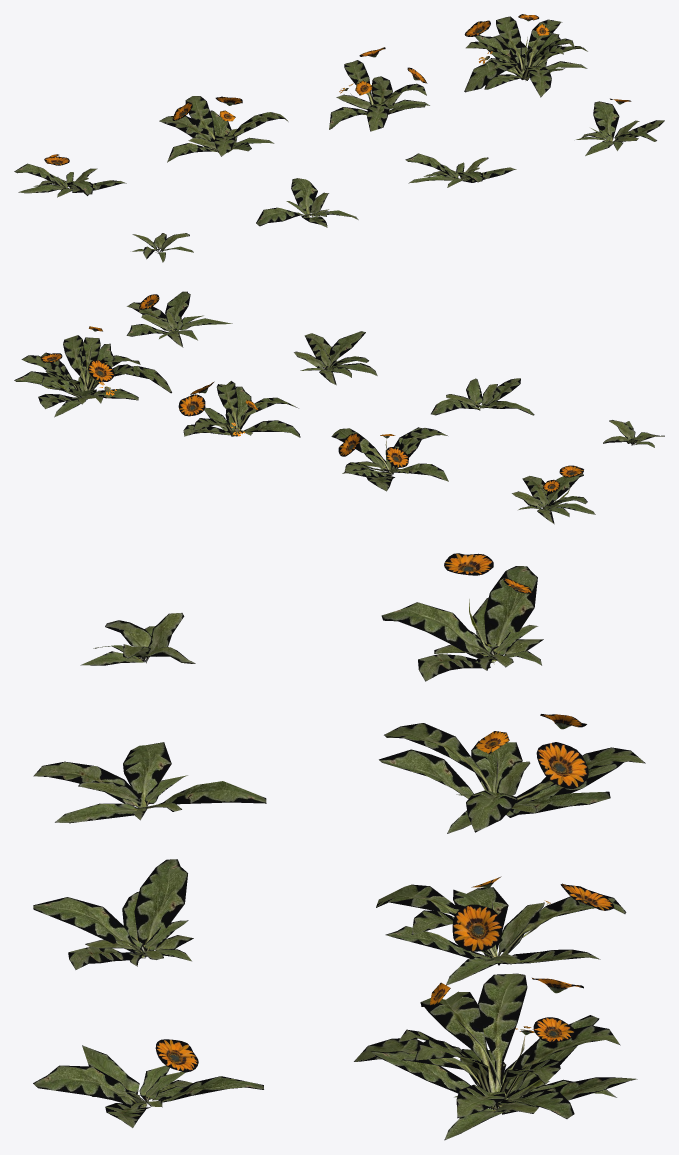
Rendered from flower_gazania.glb.
The picture shows the model from 3 angles, top to bottom: view 1: azimuth 30°, elevation 25°; view 2: azimuth 150°, elevation 25°; view 3: azimuth 270°, elevation 25°; orthographic projection. The views are drawn at different scales.
Visible parts, largest first — view 1: flower_gazania_h_LOD0, flower_gazania_f_LOD0, flower_gazania_g_LOD0, flower_gazania_d_LOD0, flower_gazania_b_LOD0, flower_gazania_e_LOD0, flower_gazania_c_LOD0, flower_gazania_a_LOD0; view 2: flower_gazania_h_LOD0, flower_gazania_g_LOD0, flower_gazania_f_LOD0, flower_gazania_d_LOD0, flower_gazania_e_LOD0, flower_gazania_c_LOD0, flower_gazania_b_LOD0, flower_gazania_a_LOD0; view 3: flower_gazania_h_LOD0, flower_gazania_f_LOD0, flower_gazania_g_LOD0, flower_gazania_e_LOD0, flower_gazania_c_LOD0, flower_gazania_d_LOD0, flower_gazania_b_LOD0, flower_gazania_a_LOD0.
Boxes of the visible parts, x1,y1,x2,y2 form: flower_gazania_h_LOD0: [464, 14, 587, 97]; flower_gazania_f_LOD0: [159, 96, 288, 162]; flower_gazania_g_LOD0: [329, 47, 429, 131]; flower_gazania_d_LOD0: [576, 98, 664, 155]; flower_gazania_b_LOD0: [256, 178, 358, 227]; flower_gazania_e_LOD0: [14, 154, 126, 197]; flower_gazania_c_LOD0: [405, 153, 516, 187]; flower_gazania_a_LOD0: [132, 233, 193, 262]; flower_gazania_h_LOD0: [14, 326, 171, 417]; flower_gazania_g_LOD0: [178, 381, 300, 437]; flower_gazania_f_LOD0: [331, 427, 448, 491]; flower_gazania_d_LOD0: [126, 291, 232, 347]; flower_gazania_e_LOD0: [512, 465, 595, 524]; flower_gazania_c_LOD0: [294, 331, 377, 385]; flower_gazania_b_LOD0: [431, 378, 534, 415]; flower_gazania_a_LOD0: [603, 420, 664, 447]; flower_gazania_h_LOD0: [354, 973, 637, 1140]; flower_gazania_f_LOD0: [379, 714, 645, 833]; flower_gazania_g_LOD0: [376, 876, 626, 985]; flower_gazania_e_LOD0: [381, 553, 543, 681]; flower_gazania_c_LOD0: [33, 859, 193, 969]; flower_gazania_d_LOD0: [33, 1039, 263, 1127]; flower_gazania_b_LOD0: [33, 742, 266, 823]; flower_gazania_a_LOD0: [80, 613, 195, 665].
Size of the model in its own units: 1.48 by 0.1623 by 0.7015.
1 material, 1 textured.
